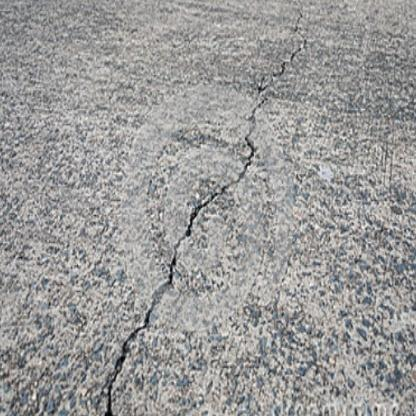Cracks: (94, 8, 311, 416)
